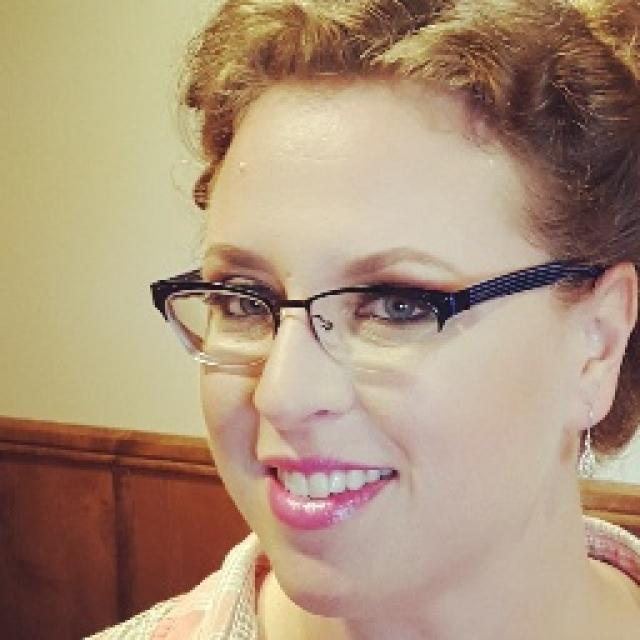earlobe: (565, 260, 640, 430)
